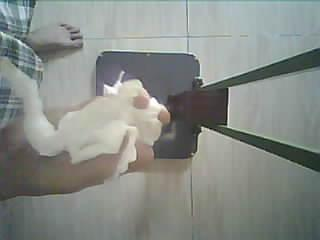paper: (0, 59, 170, 177)
